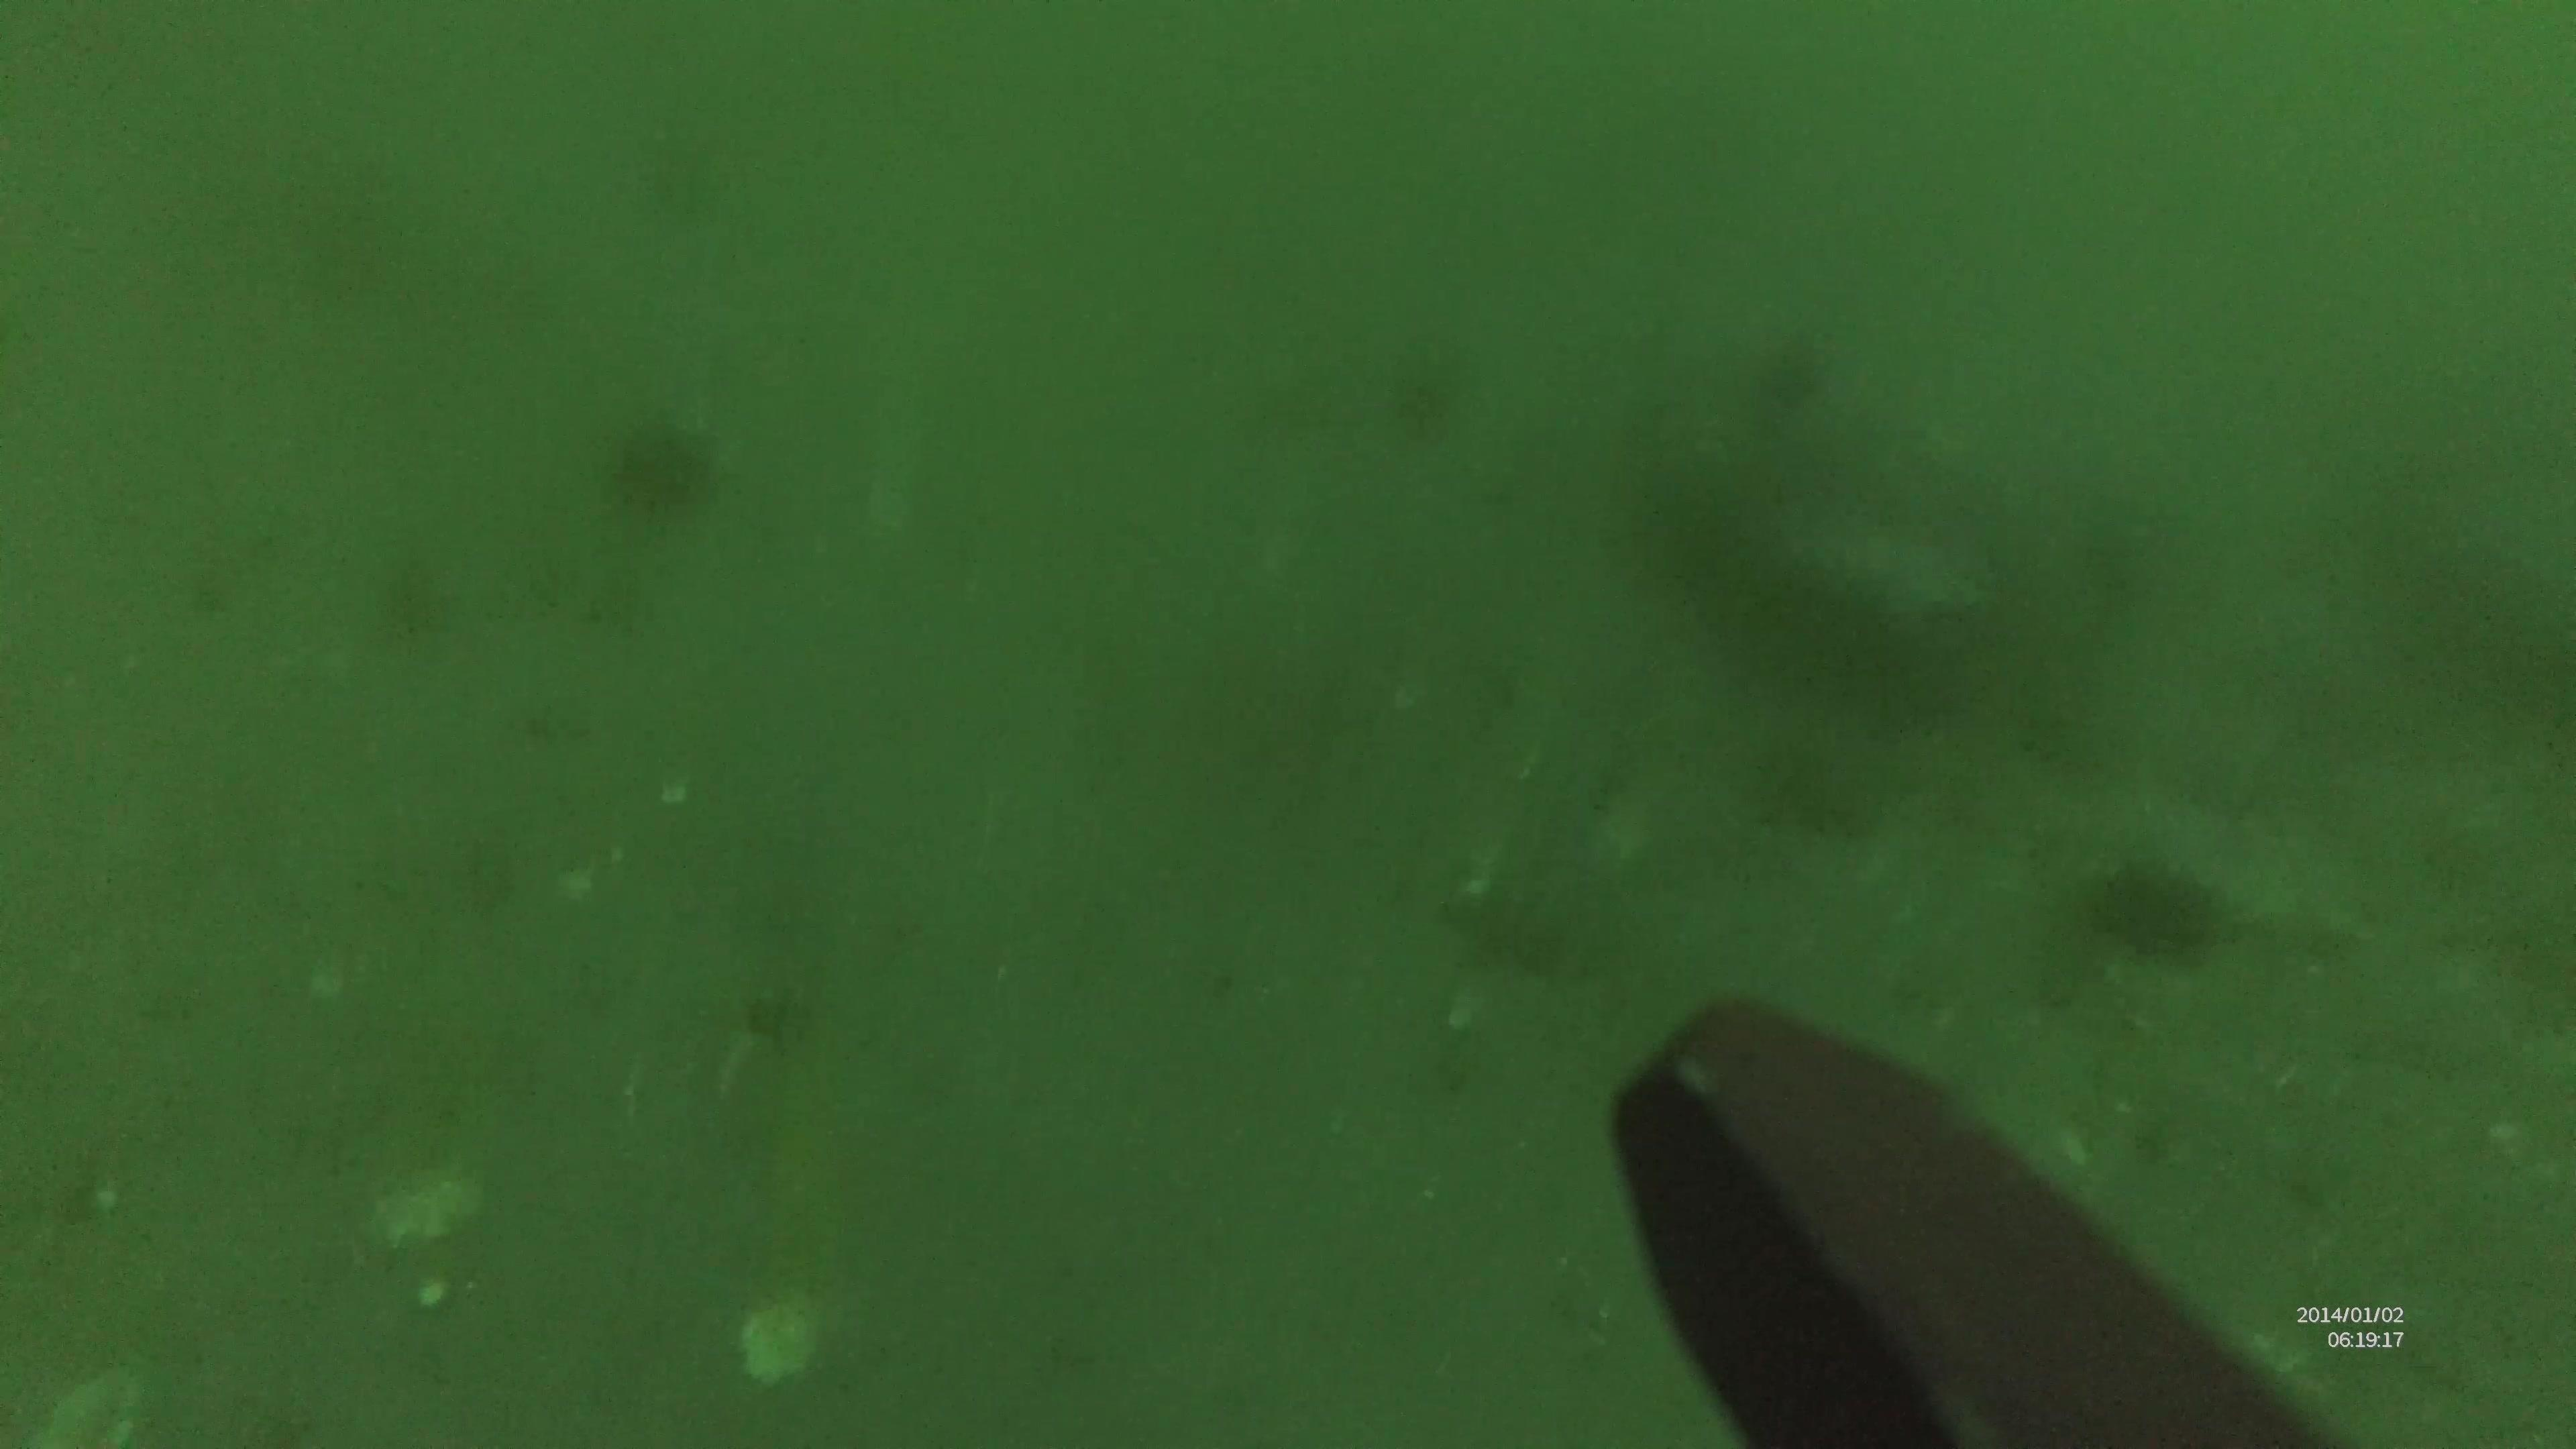echinus: (2091, 856, 2235, 966)
